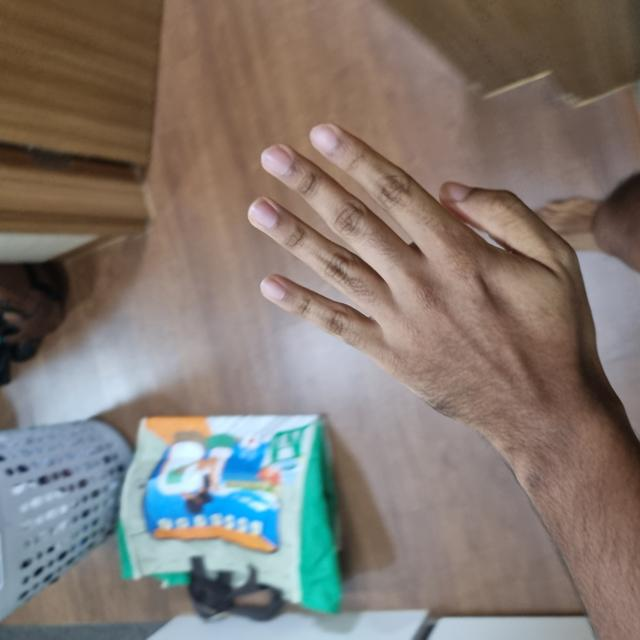Paper: (195, 252, 513, 578)
